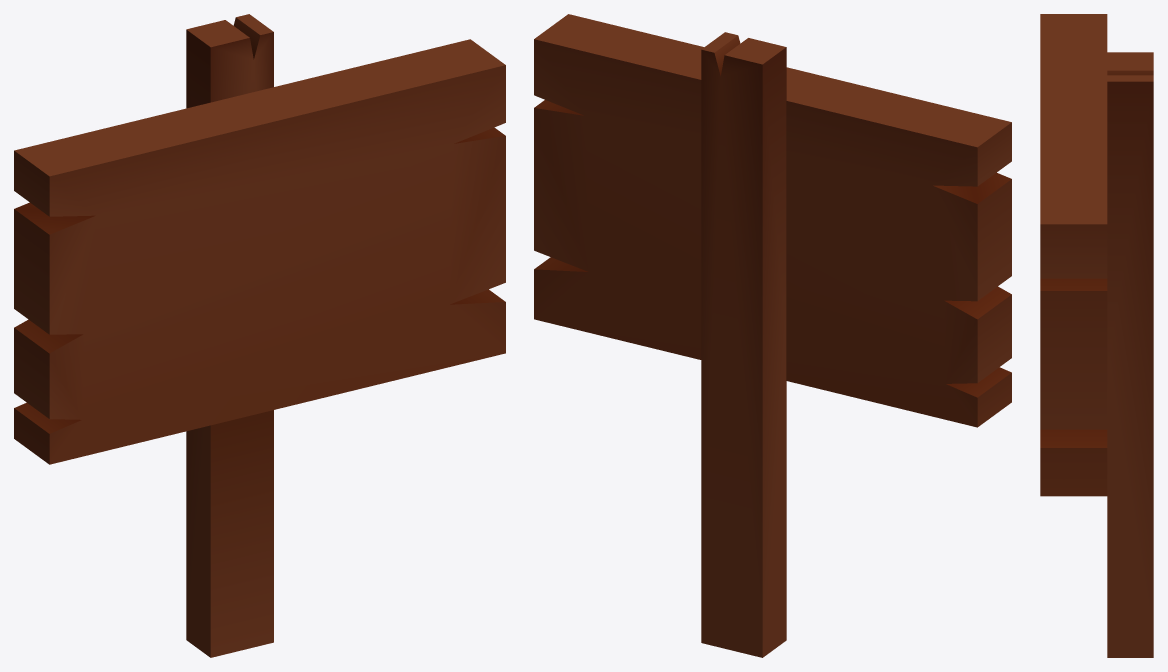
The model's file is signboard.gltf.
3 views of the same model, side by side, from view 1: azimuth 30°, elevation 25°; view 2: azimuth 150°, elevation 25°; view 3: azimuth 270°, elevation 25° (orthographic). The views are drawn at different scales.
Visible parts, largest first — view 1: Material1; view 2: Material1; view 3: Material1.
Boxes of the visible parts, bbox=[...] form: Material1: bbox=[14, 14, 505, 657]; Material1: bbox=[534, 14, 1011, 657]; Material1: bbox=[1040, 14, 1153, 657].
Size of the model in its own units: 155 by 198 by 35.2.
Materials: 1 (1 with a texture image).
